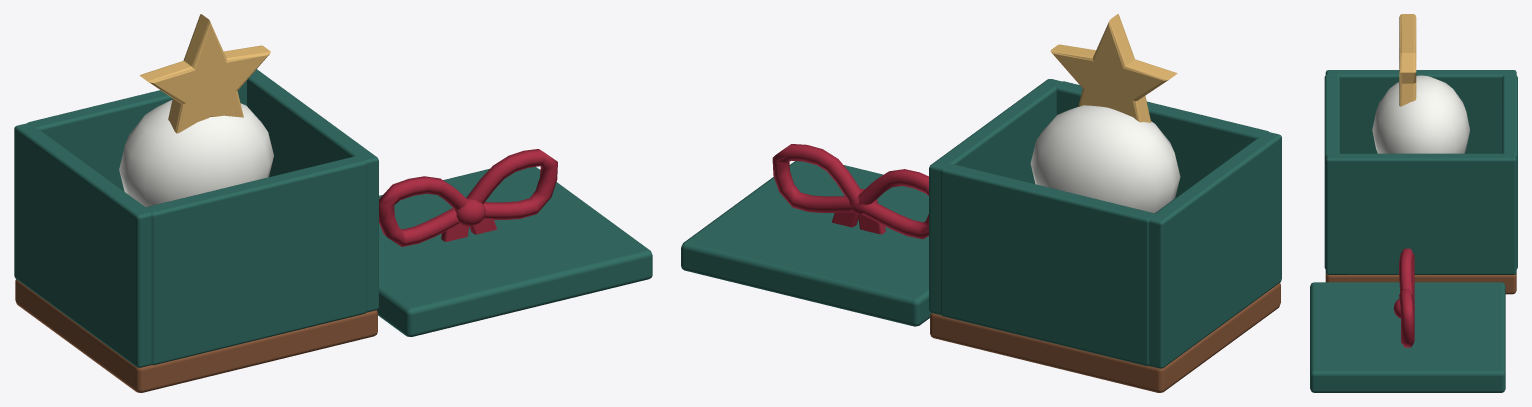
File: christmas-storybook-opened-star-gift-6a8a54cd__18749.glb
3 renders of one model, left to right at view 1: azimuth 30°, elevation 25°; view 2: azimuth 150°, elevation 25°; view 3: azimuth 270°, elevation 25°, orthographic. The views are drawn at different scales.
Visible parts, largest first — view 1: pine, cream, oak, berry, brass; view 2: pine, cream, oak, berry, brass; view 3: pine, cream, brass, oak, berry.
Part boxes in pixels (<box>): pine: <box>14,69,652,367</box>; cream: <box>119,100,273,207</box>; oak: <box>15,279,377,392</box>; berry: <box>379,149,557,246</box>; brass: <box>140,14,270,133</box>; pine: <box>681,79,1281,368</box>; cream: <box>1030,105,1180,213</box>; oak: <box>930,283,1280,392</box>; berry: <box>772,144,928,239</box>; brass: <box>1050,14,1177,122</box>; pine: <box>1310,70,1517,392</box>; cream: <box>1372,75,1469,153</box>; brass: <box>1399,14,1416,106</box>; oak: <box>1325,273,1516,294</box>; berry: <box>1393,248,1414,347</box>.
Size of the model in its own units: 1.01 by 0.6382 by 0.4674.
